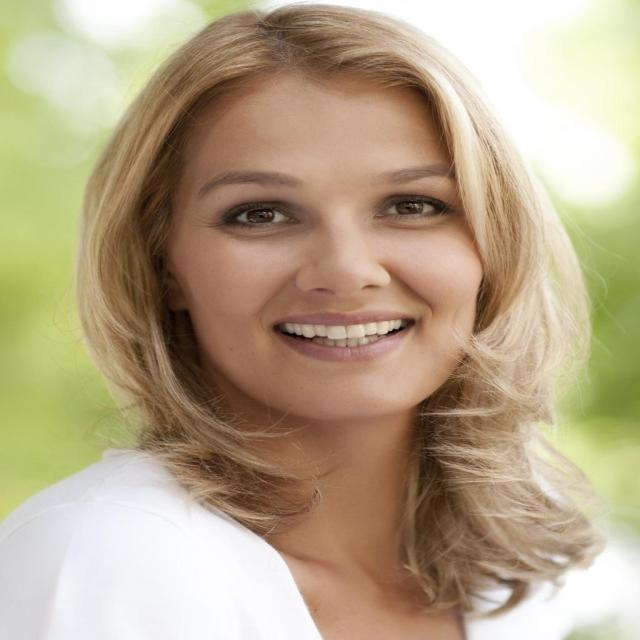Face: (183, 42, 515, 414)
